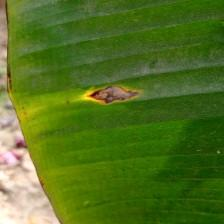cordana: (6, 0, 224, 224)
